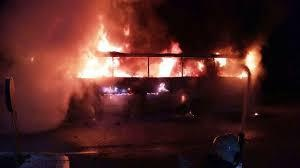fire: (158, 43, 263, 77), (76, 24, 127, 79)
